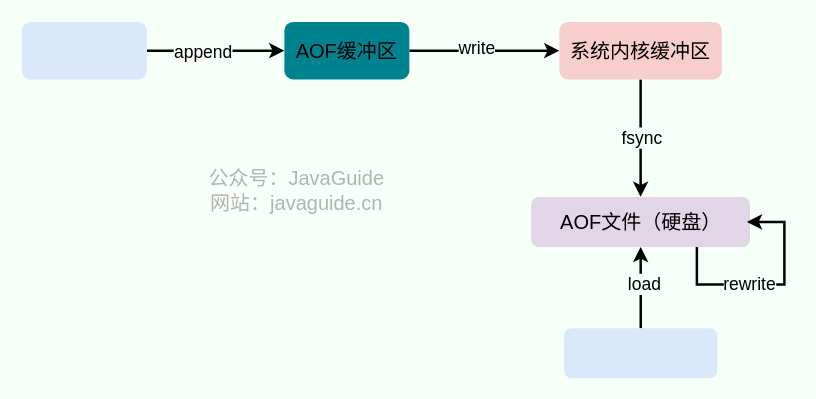
This 816x399 diagram has some shape labels left out. Each missing label, with the box of its shape:
命令追加: (21, 21, 146, 79)
重启: (564, 328, 717, 378)
